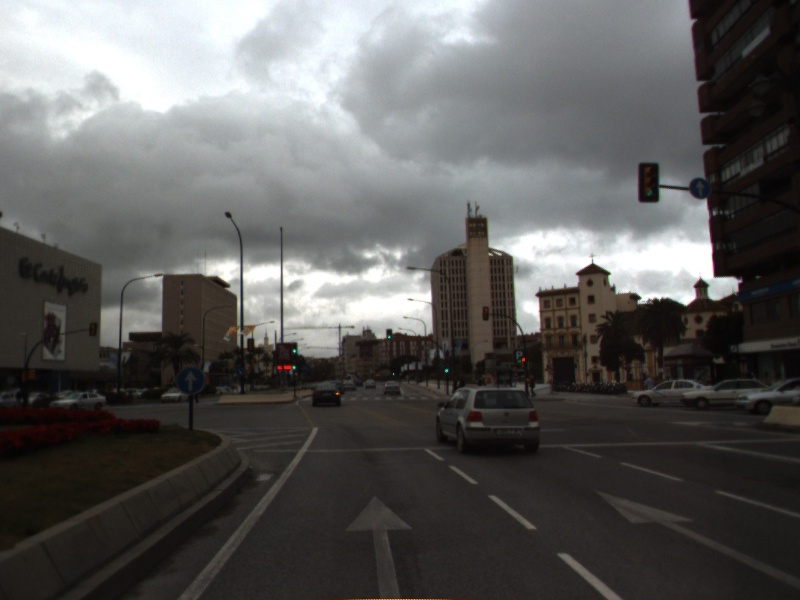STRAIGHT: (590, 485, 800, 589), (341, 491, 417, 600)
